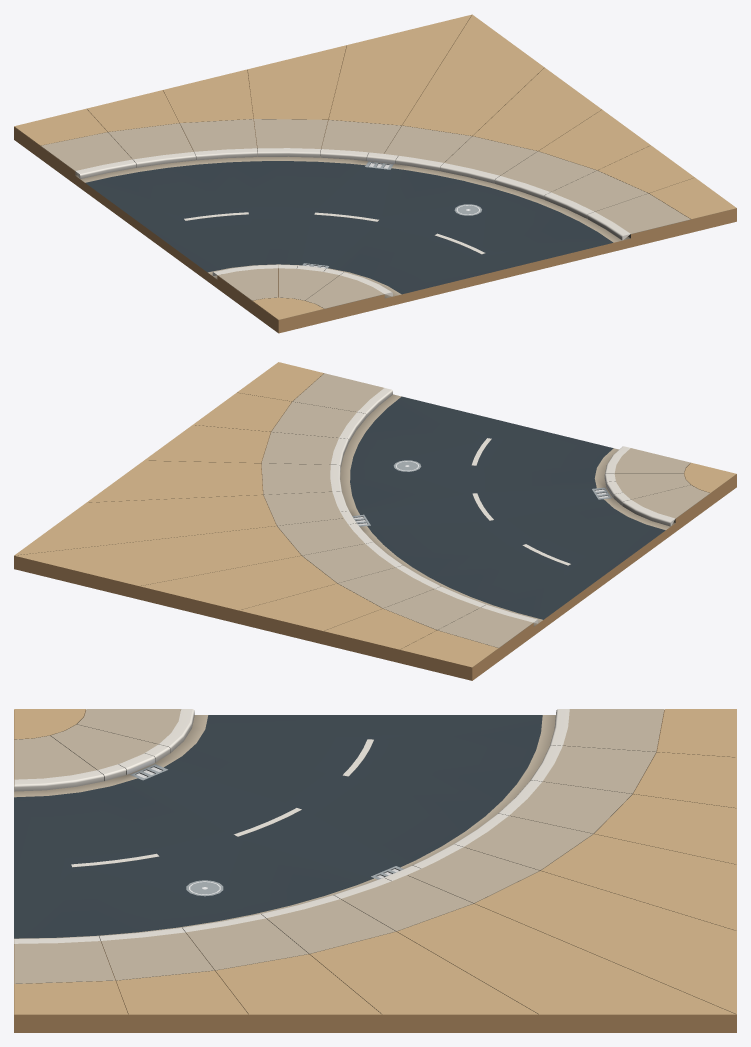
The model's file is road_corner.fbx.
3 renders of one model, top to bottom at view 1: azimuth 30°, elevation 25°; view 2: azimuth 150°, elevation 25°; view 3: azimuth 270°, elevation 25°, orthographic. The views are drawn at different scales.
Visible parts, largest first — view 1: road_corner; view 2: road_corner; view 3: road_corner.
Part boxes in pixels (box(x1,y1,x2,y2)): road_corner: box(14, 14, 736, 333); road_corner: box(14, 362, 736, 680); road_corner: box(14, 709, 736, 1032).
Size of the model in its own units: 16 by 0.45 by 16.
